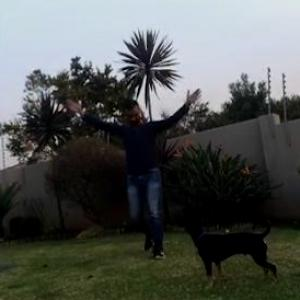takeoff: (62, 87, 202, 247)
